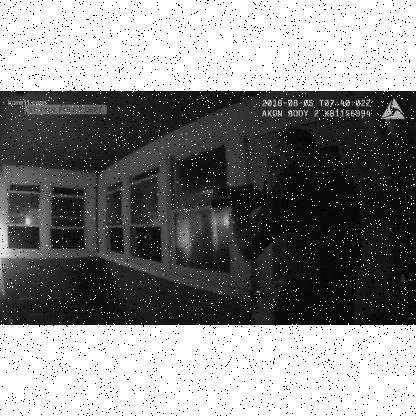gun: (206, 184, 274, 220)
